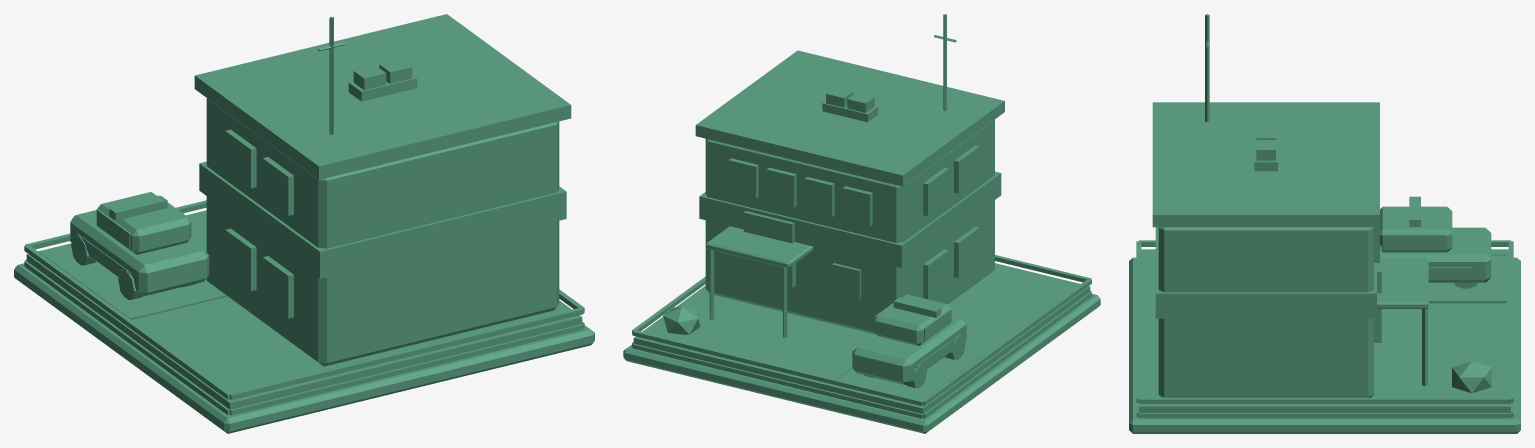
The picture shows the model from 3 angles, left to right: view 1: azimuth 30°, elevation 25°; view 2: azimuth 150°, elevation 25°; view 3: azimuth 270°, elevation 25°; orthographic projection. The views are drawn at different scales.
Parts seen in each view (by area): view 1: corpo; view 2: corpo; view 3: corpo.
Boxes of the visible parts, x1,y1,x2,y2 form: corpo: (14,14,594,433); corpo: (623,14,1100,433); corpo: (1129,14,1520,433).
Size of the model in its own units: 2 by 1.81 by 2.
